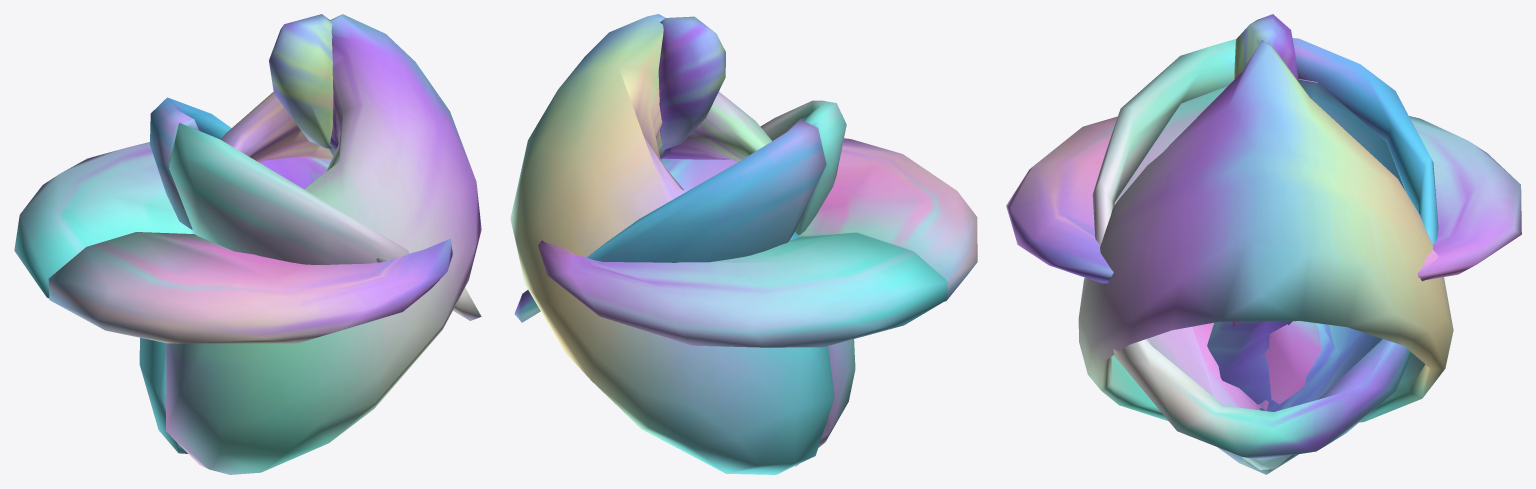
The model's file is randomshape7.glb.
3 views of the same model, side by side, from view 1: azimuth 30°, elevation 25°; view 2: azimuth 150°, elevation 25°; view 3: azimuth 270°, elevation 25° (orthographic). The views are drawn at different scales.
Visible parts, largest first — view 1: SuperShapesMesh.007; view 2: SuperShapesMesh.007; view 3: SuperShapesMesh.007.
Boxes of the visible parts, x1,y1,x2,y2 form: SuperShapesMesh.007: [14, 14, 481, 474]; SuperShapesMesh.007: [510, 14, 977, 474]; SuperShapesMesh.007: [1006, 14, 1521, 474].
Bounding box in the file's own units: 3.93 × 3.8 × 3.82.
Materials: 1 (1 with a texture image).
